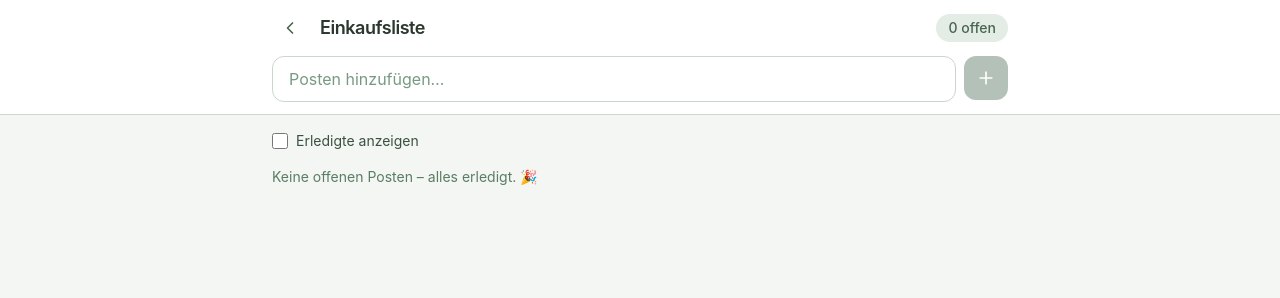
Test: Einkaufsliste-Detailseite › reopening a done item moves it back to the open list after the grace period
Click the checkbox labelled "Erledigte anzeigen".
click(280, 141)  # box [272,133,288,149]
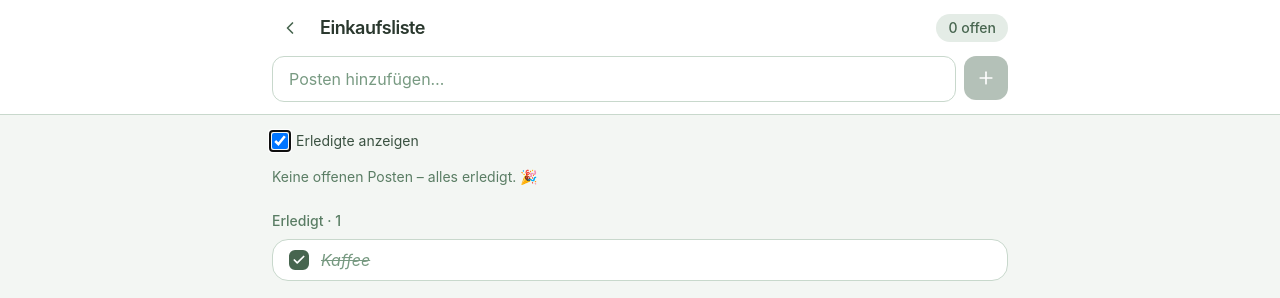
Now the button named "Kaffee wieder öffnen" is shown
Click the button named "Kaffee wieder öffnen".
click(299, 260)  # box [289,250,309,270]
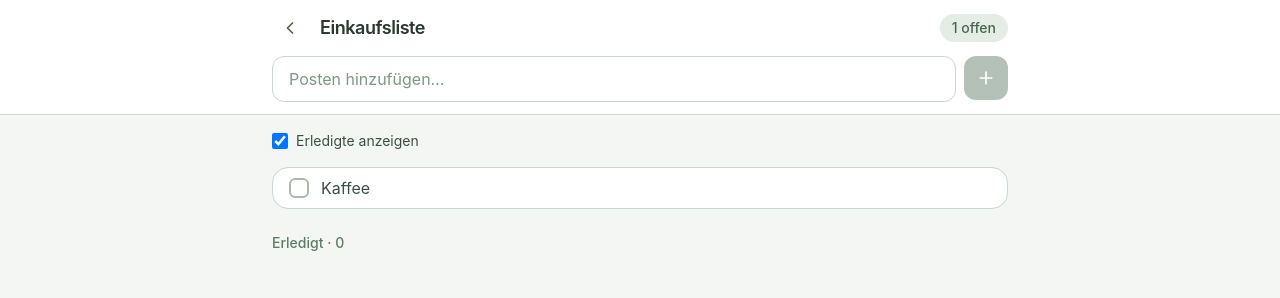
Now the button named "Kaffee abhaken" is shown, box [289,178,309,198]
Now the heading "Erledigt · 0" is shown, box [272,234,344,251]
